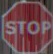Stop: (3, 1, 52, 52)
